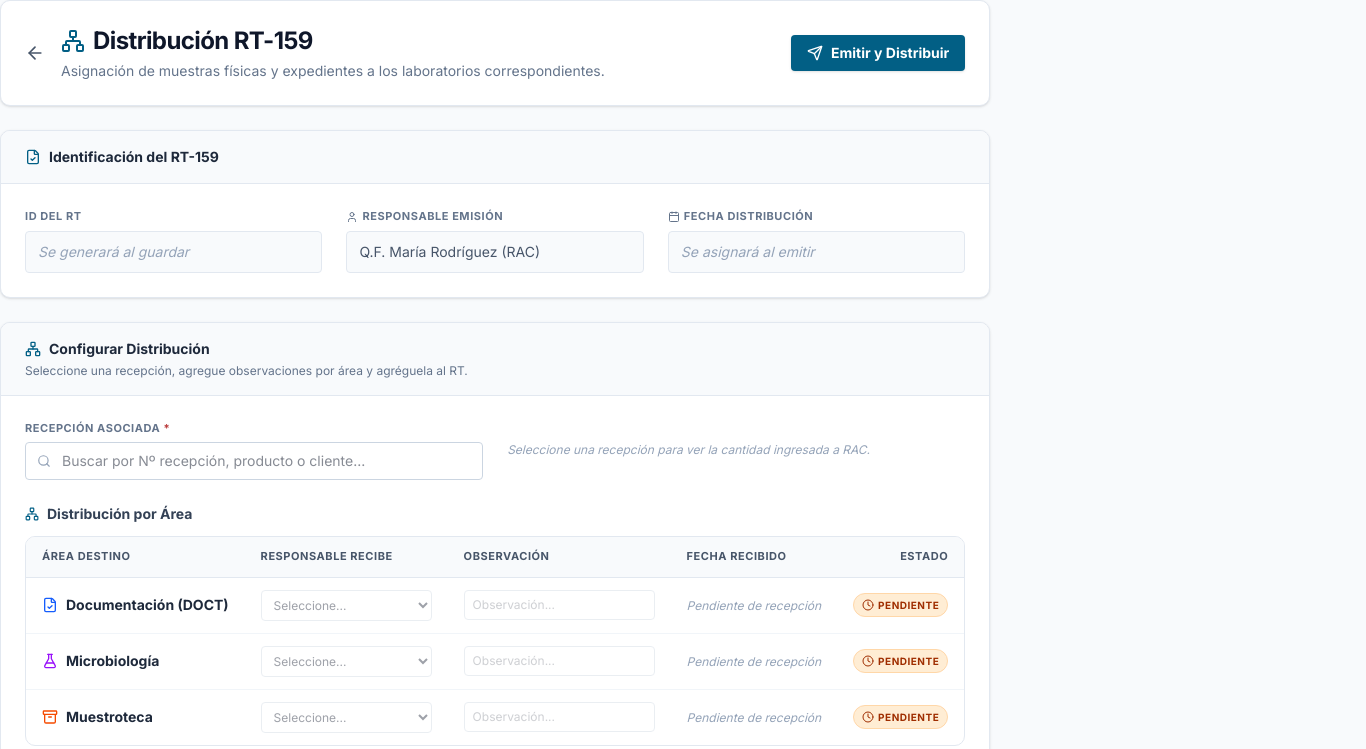
Scenario: DistribucionPage — /rac/distribucion › Cantidad RAC — visible al seleccionar recepción › muestra cantidad-rac-info al seleccionar recepción
In the field with test id "recepcion-search": [254, 461] box top-left (25, 442), bottom-right (483, 480), type "LEF-2024-00143"
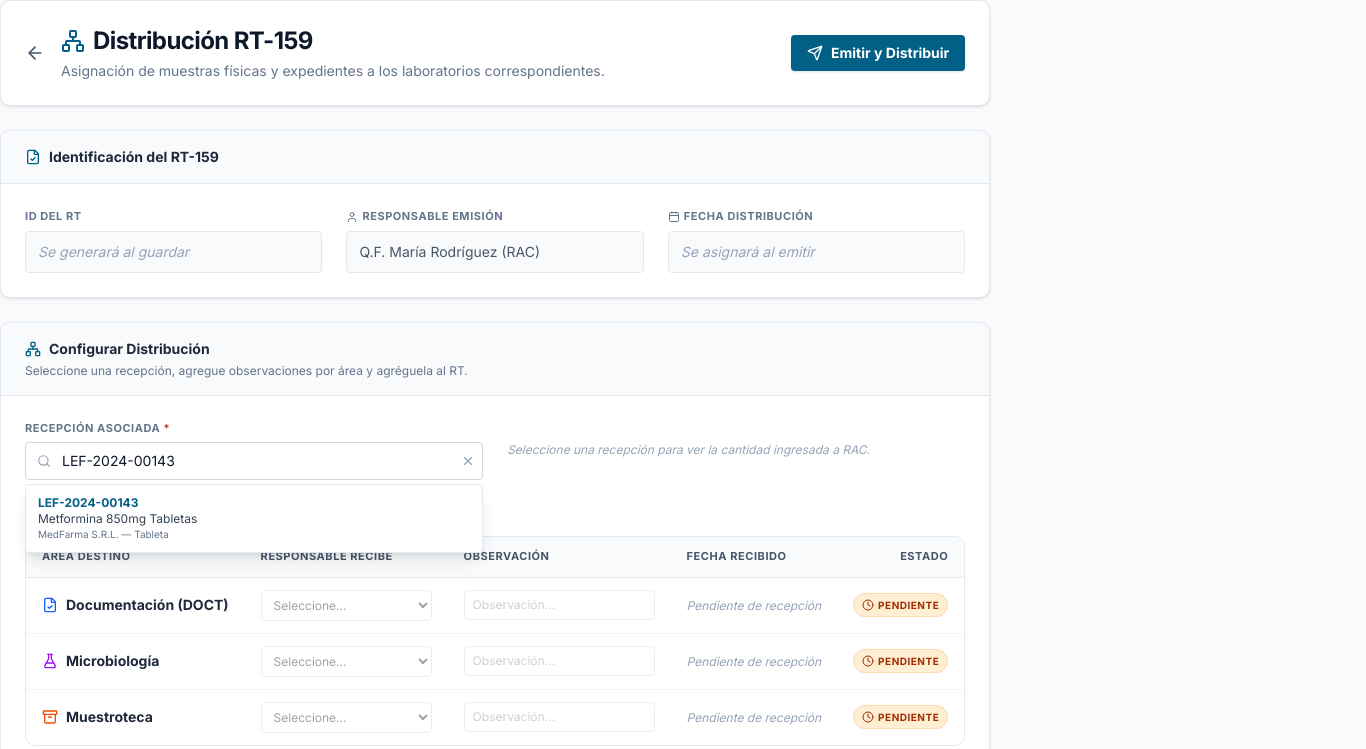
Click the button with test id "recepcion-option": [88, 502] box top-left (26, 485), bottom-right (482, 552)
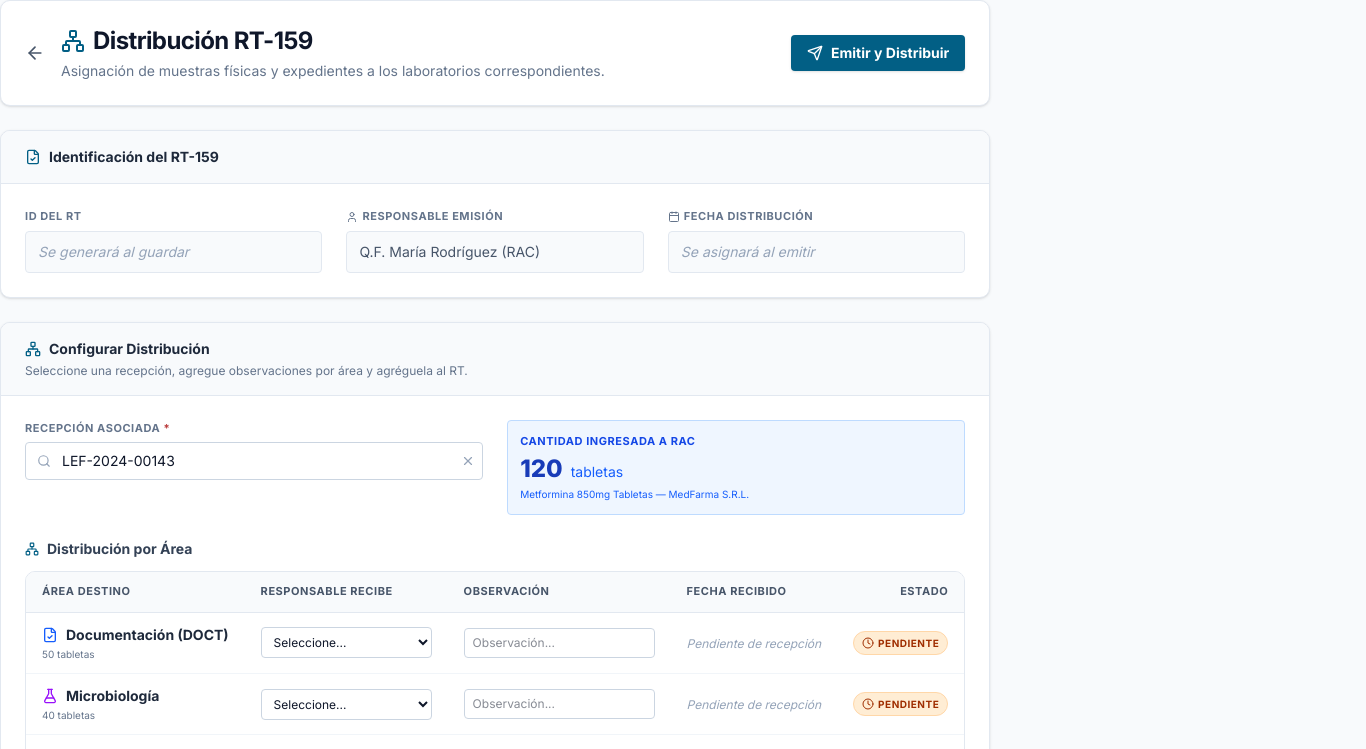
Check: the element with test id "cantidad-rac-info" is shown, box top-left (507, 420), bottom-right (965, 515)
